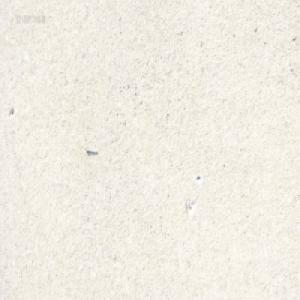Nail: (84, 145, 98, 153)
